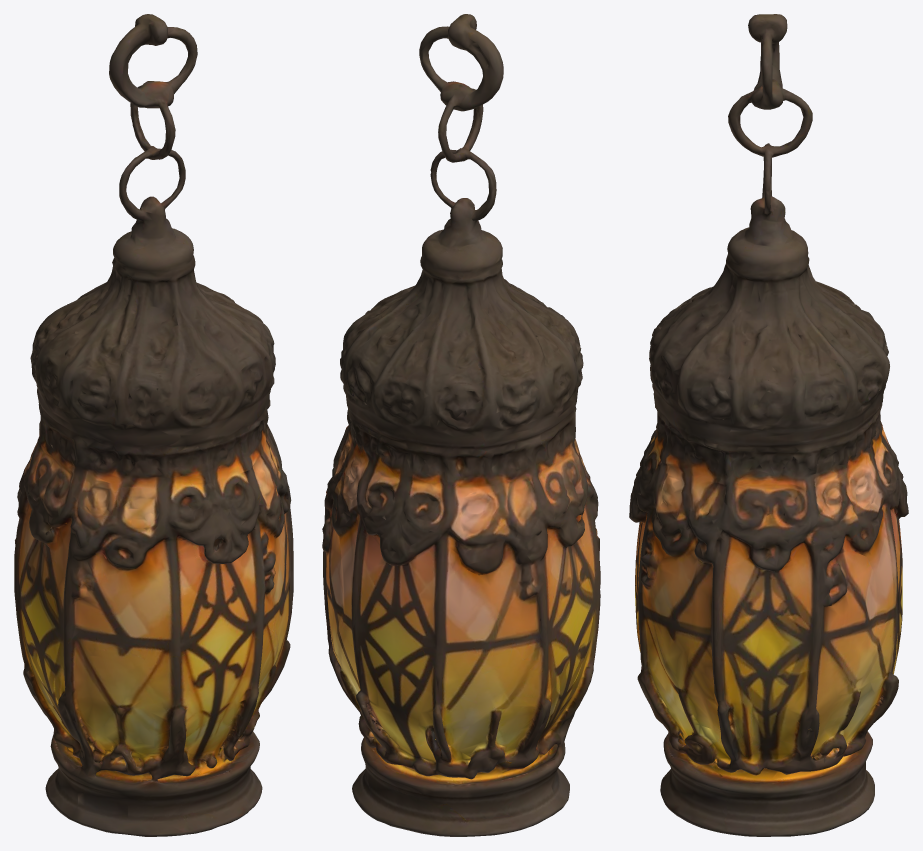
File: magic-lantern.glb
3 views of the same model, side by side, from view 1: azimuth 30°, elevation 25°; view 2: azimuth 150°, elevation 25°; view 3: azimuth 270°, elevation 25° (orthographic).
Bounding box in the file's own units: 0.6308 × 2 × 0.6523.
Materials: 1 (1 with a texture image).
